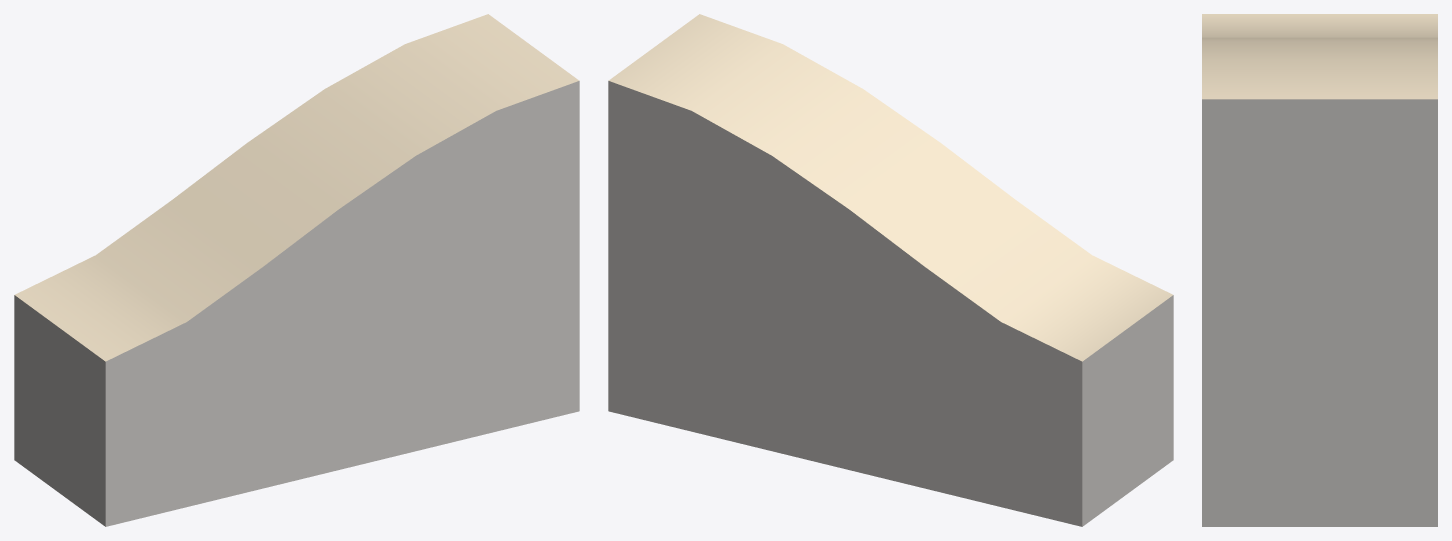
The model's file is InclinePathPlatform.glb.
The picture shows the model from 3 angles, left to right: view 1: azimuth 30°, elevation 25°; view 2: azimuth 150°, elevation 25°; view 3: azimuth 270°, elevation 25°; orthographic projection. The views are drawn at different scales.
Parts seen in each view (by area): view 1: Hidden, Path; view 2: Hidden, Path; view 3: Hidden, Path.
Boxes of the visible parts, x1=… form: Hidden: x1=14, y1=81, x2=579, y2=526; Path: x1=15, y1=14, x2=579, y2=361; Hidden: x1=608, y1=81, x2=1173, y2=526; Path: x1=608, y1=14, x2=1172, y2=361; Hidden: x1=1202, y1=99, x2=1437, y2=526; Path: x1=1202, y1=14, x2=1437, y2=99.
Bounding box in the file's own units: 3 × 2 × 1.
